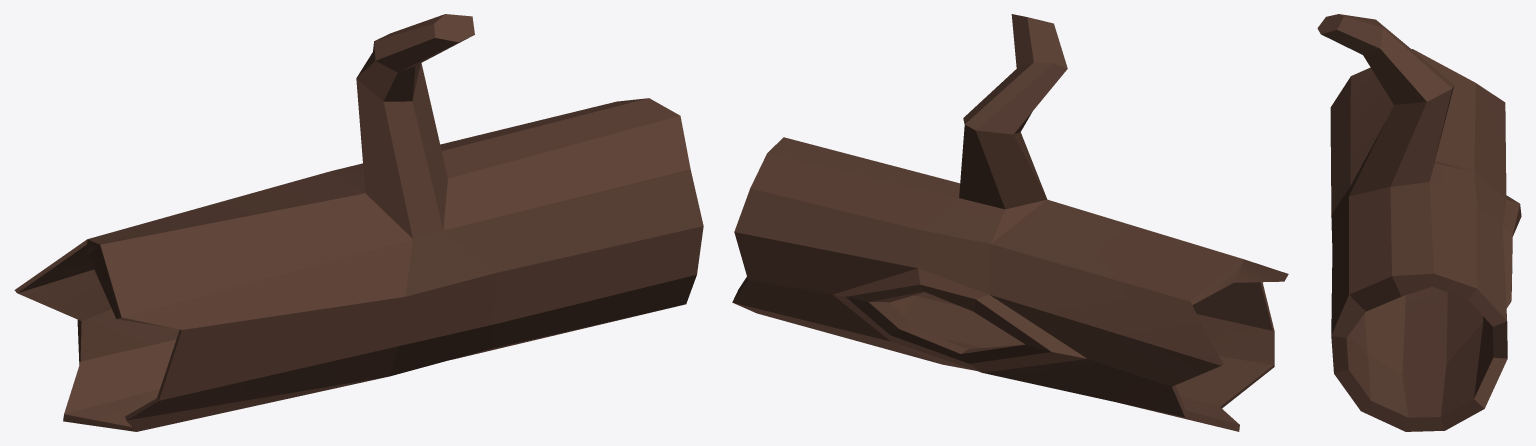
File: 2. Gigant Fall Tree (ver 2 - Baixo).fbx
The picture shows the model from 3 angles, left to right: view 1: azimuth 30°, elevation 25°; view 2: azimuth 150°, elevation 25°; view 3: azimuth 270°, elevation 25°; orthographic projection. The views are drawn at different scales.
Parts seen in each view (by area): view 1: 2. Gigant Fall Tree (ver 2 - Baixo); view 2: 2. Gigant Fall Tree (ver 2 - Baixo); view 3: 2. Gigant Fall Tree (ver 2 - Baixo).
Part boxes in pixels (<box>): 2. Gigant Fall Tree (ver 2 - Baixo): <box>14,14,703,431</box>; 2. Gigant Fall Tree (ver 2 - Baixo): <box>732,14,1288,431</box>; 2. Gigant Fall Tree (ver 2 - Baixo): <box>1317,14,1521,431</box>.
Size of the model in its own units: 740 by 447 by 265.
